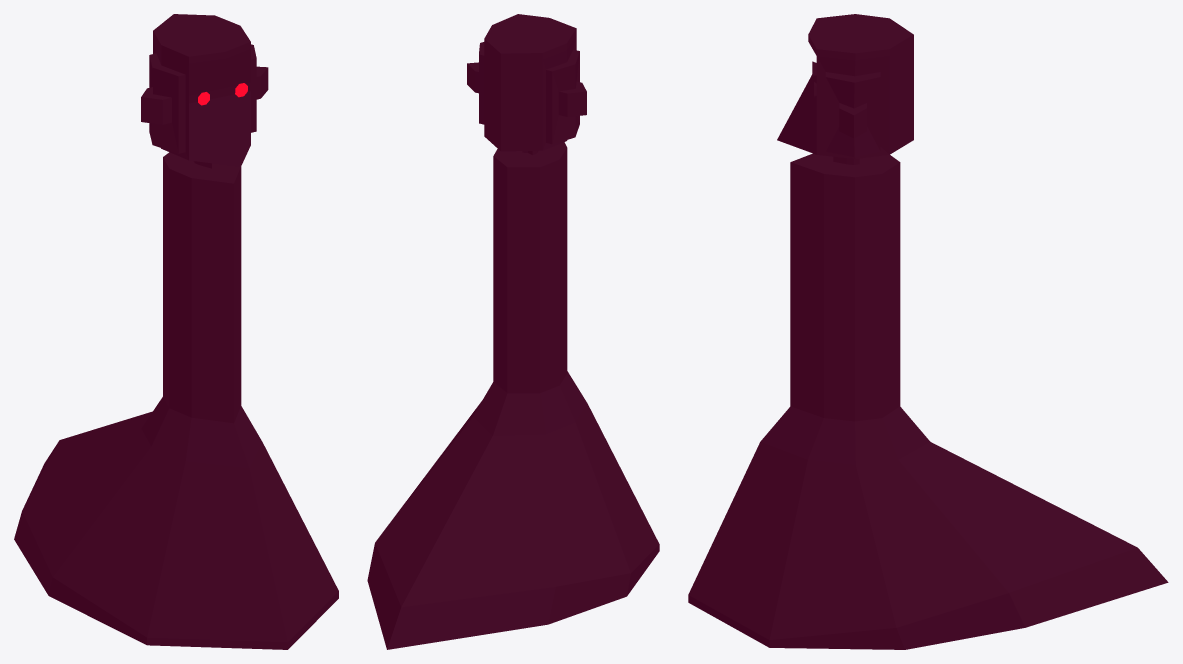
File: Shadow.glb
3 renders of one model, left to right at view 1: azimuth 30°, elevation 25°; view 2: azimuth 150°, elevation 25°; view 3: azimuth 270°, elevation 25°, orthographic. The views are drawn at different scales.
Parts seen in each view (by area): view 1: ShadowBody, ShadowHead; view 2: ShadowBody, ShadowHead; view 3: ShadowBody, ShadowHead.
Part boxes in pixels (box(x1,y1,x2,y2)): ShadowBody: box(14, 152, 338, 649); ShadowHead: box(141, 14, 268, 166); ShadowBody: box(367, 142, 659, 649); ShadowHead: box(467, 14, 586, 151); ShadowBody: box(688, 153, 1168, 649); ShadowHead: box(777, 14, 913, 158).
Bounding box in the file's own units: 1.5 × 3.25 × 2.5.
